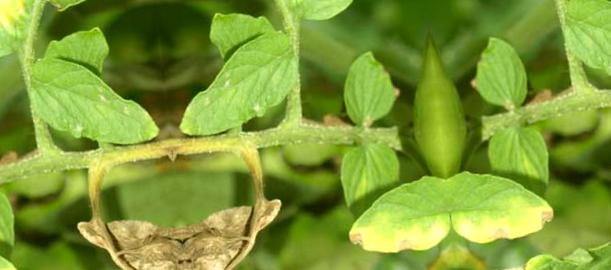Tomato Early blight leaf: (331, 169, 456, 270), (242, 0, 389, 29), (188, 265, 472, 270)
Tomato leaf: (168, 20, 301, 146)
